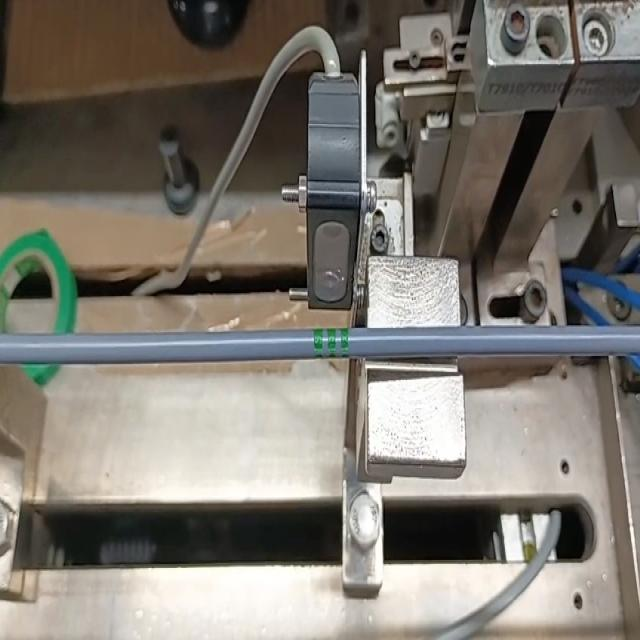green: (313, 327, 349, 359)
